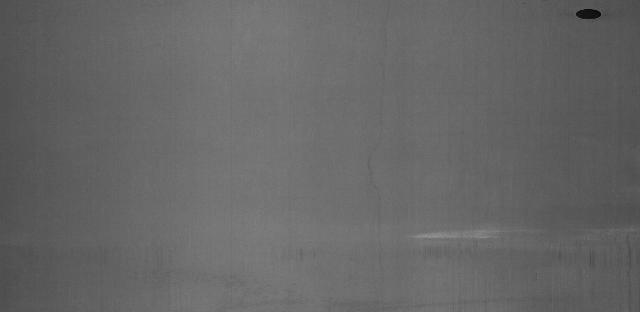punching_hole: (573, 4, 604, 21)
